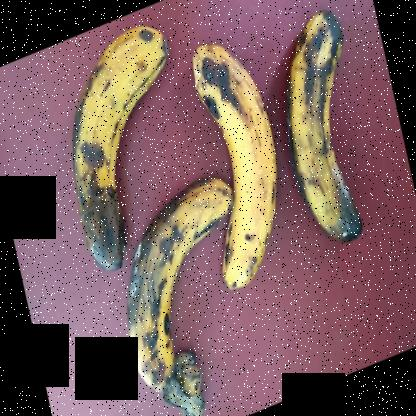overripe: (190, 0, 291, 295)
rotten: (287, 7, 399, 273), (68, 13, 170, 276), (131, 174, 223, 411)
